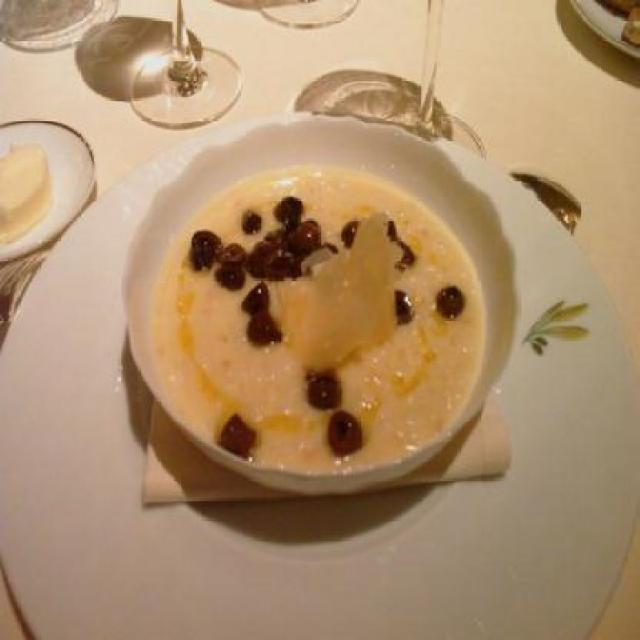Risotto: (152, 148, 490, 482)
